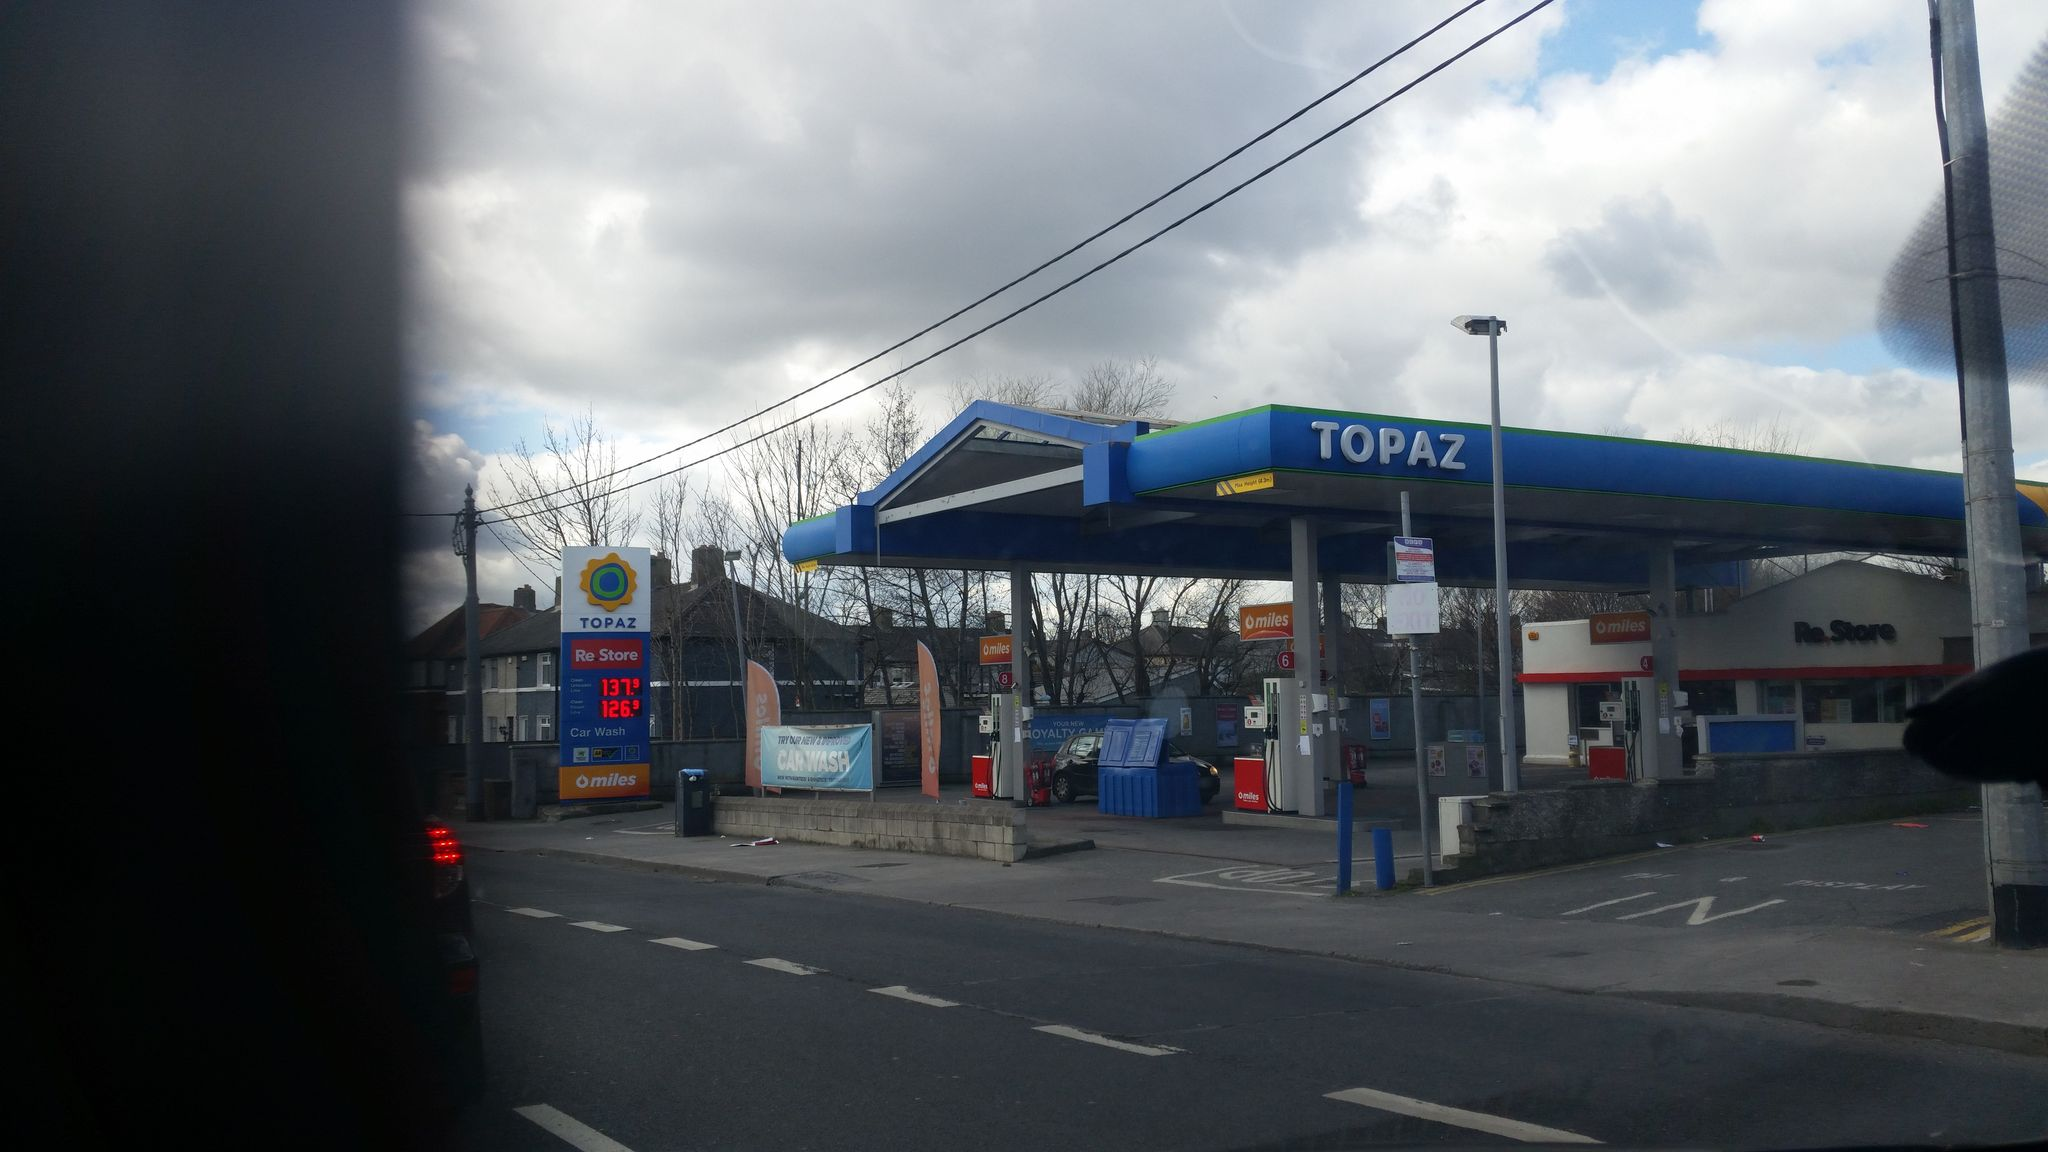vinyl banner: (758, 717, 881, 800)
